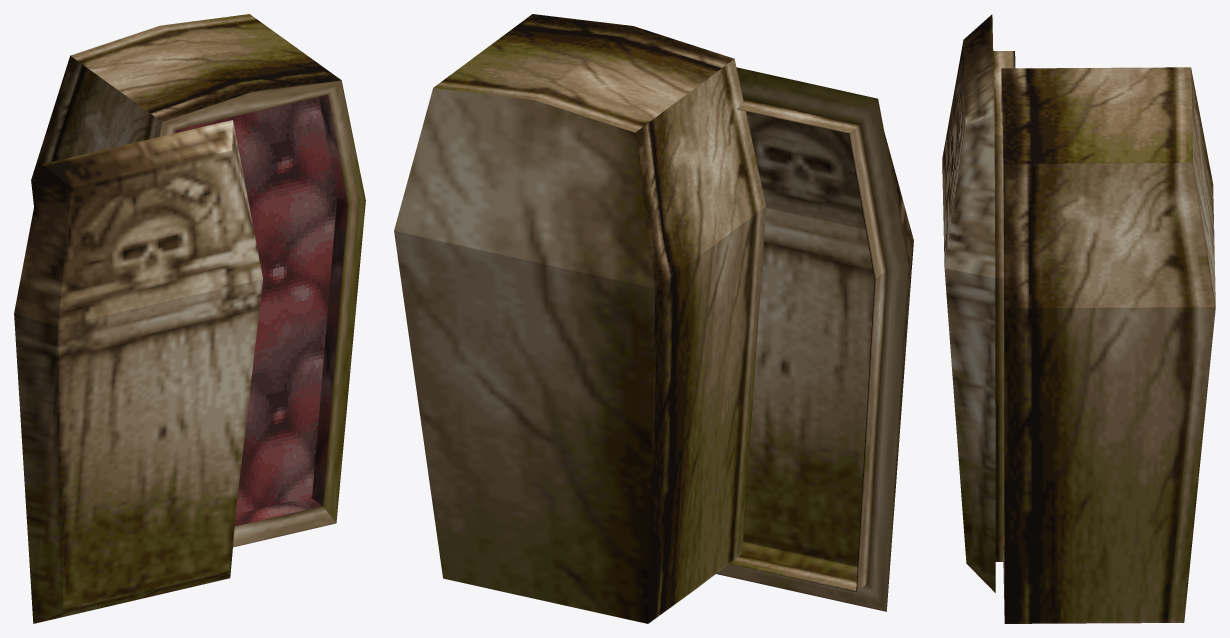
The model's file is Coffin.obj.
3 views of the same model, side by side, from view 1: azimuth 30°, elevation 25°; view 2: azimuth 150°, elevation 25°; view 3: azimuth 270°, elevation 25° (orthographic). The views are drawn at different scales.
Parts seen in each view (by area): view 1: model2554_materia.001, model2554_materia, model2552_materia, model2552_materia.001; view 2: model2554_materia, model2554_materia.001; view 3: model2554_materia, model2554_materia.001.
Part boxes in pixels (x1,y1,x2,y2): model2554_materia.001: (14,120,262,623); model2554_materia: (31,14,365,547); model2552_materia: (175,97,337,513); model2552_materia.001: (235,95,347,526); model2554_materia: (394,14,766,623); model2554_materia.001: (716,67,913,611); model2554_materia: (1001,67,1215,623); model2554_materia.001: (942,14,1015,592).
Bounding box in the file's own units: 0.0194 × 0.0247 × 0.0123.
Materials: 4 (4 with a texture image).
